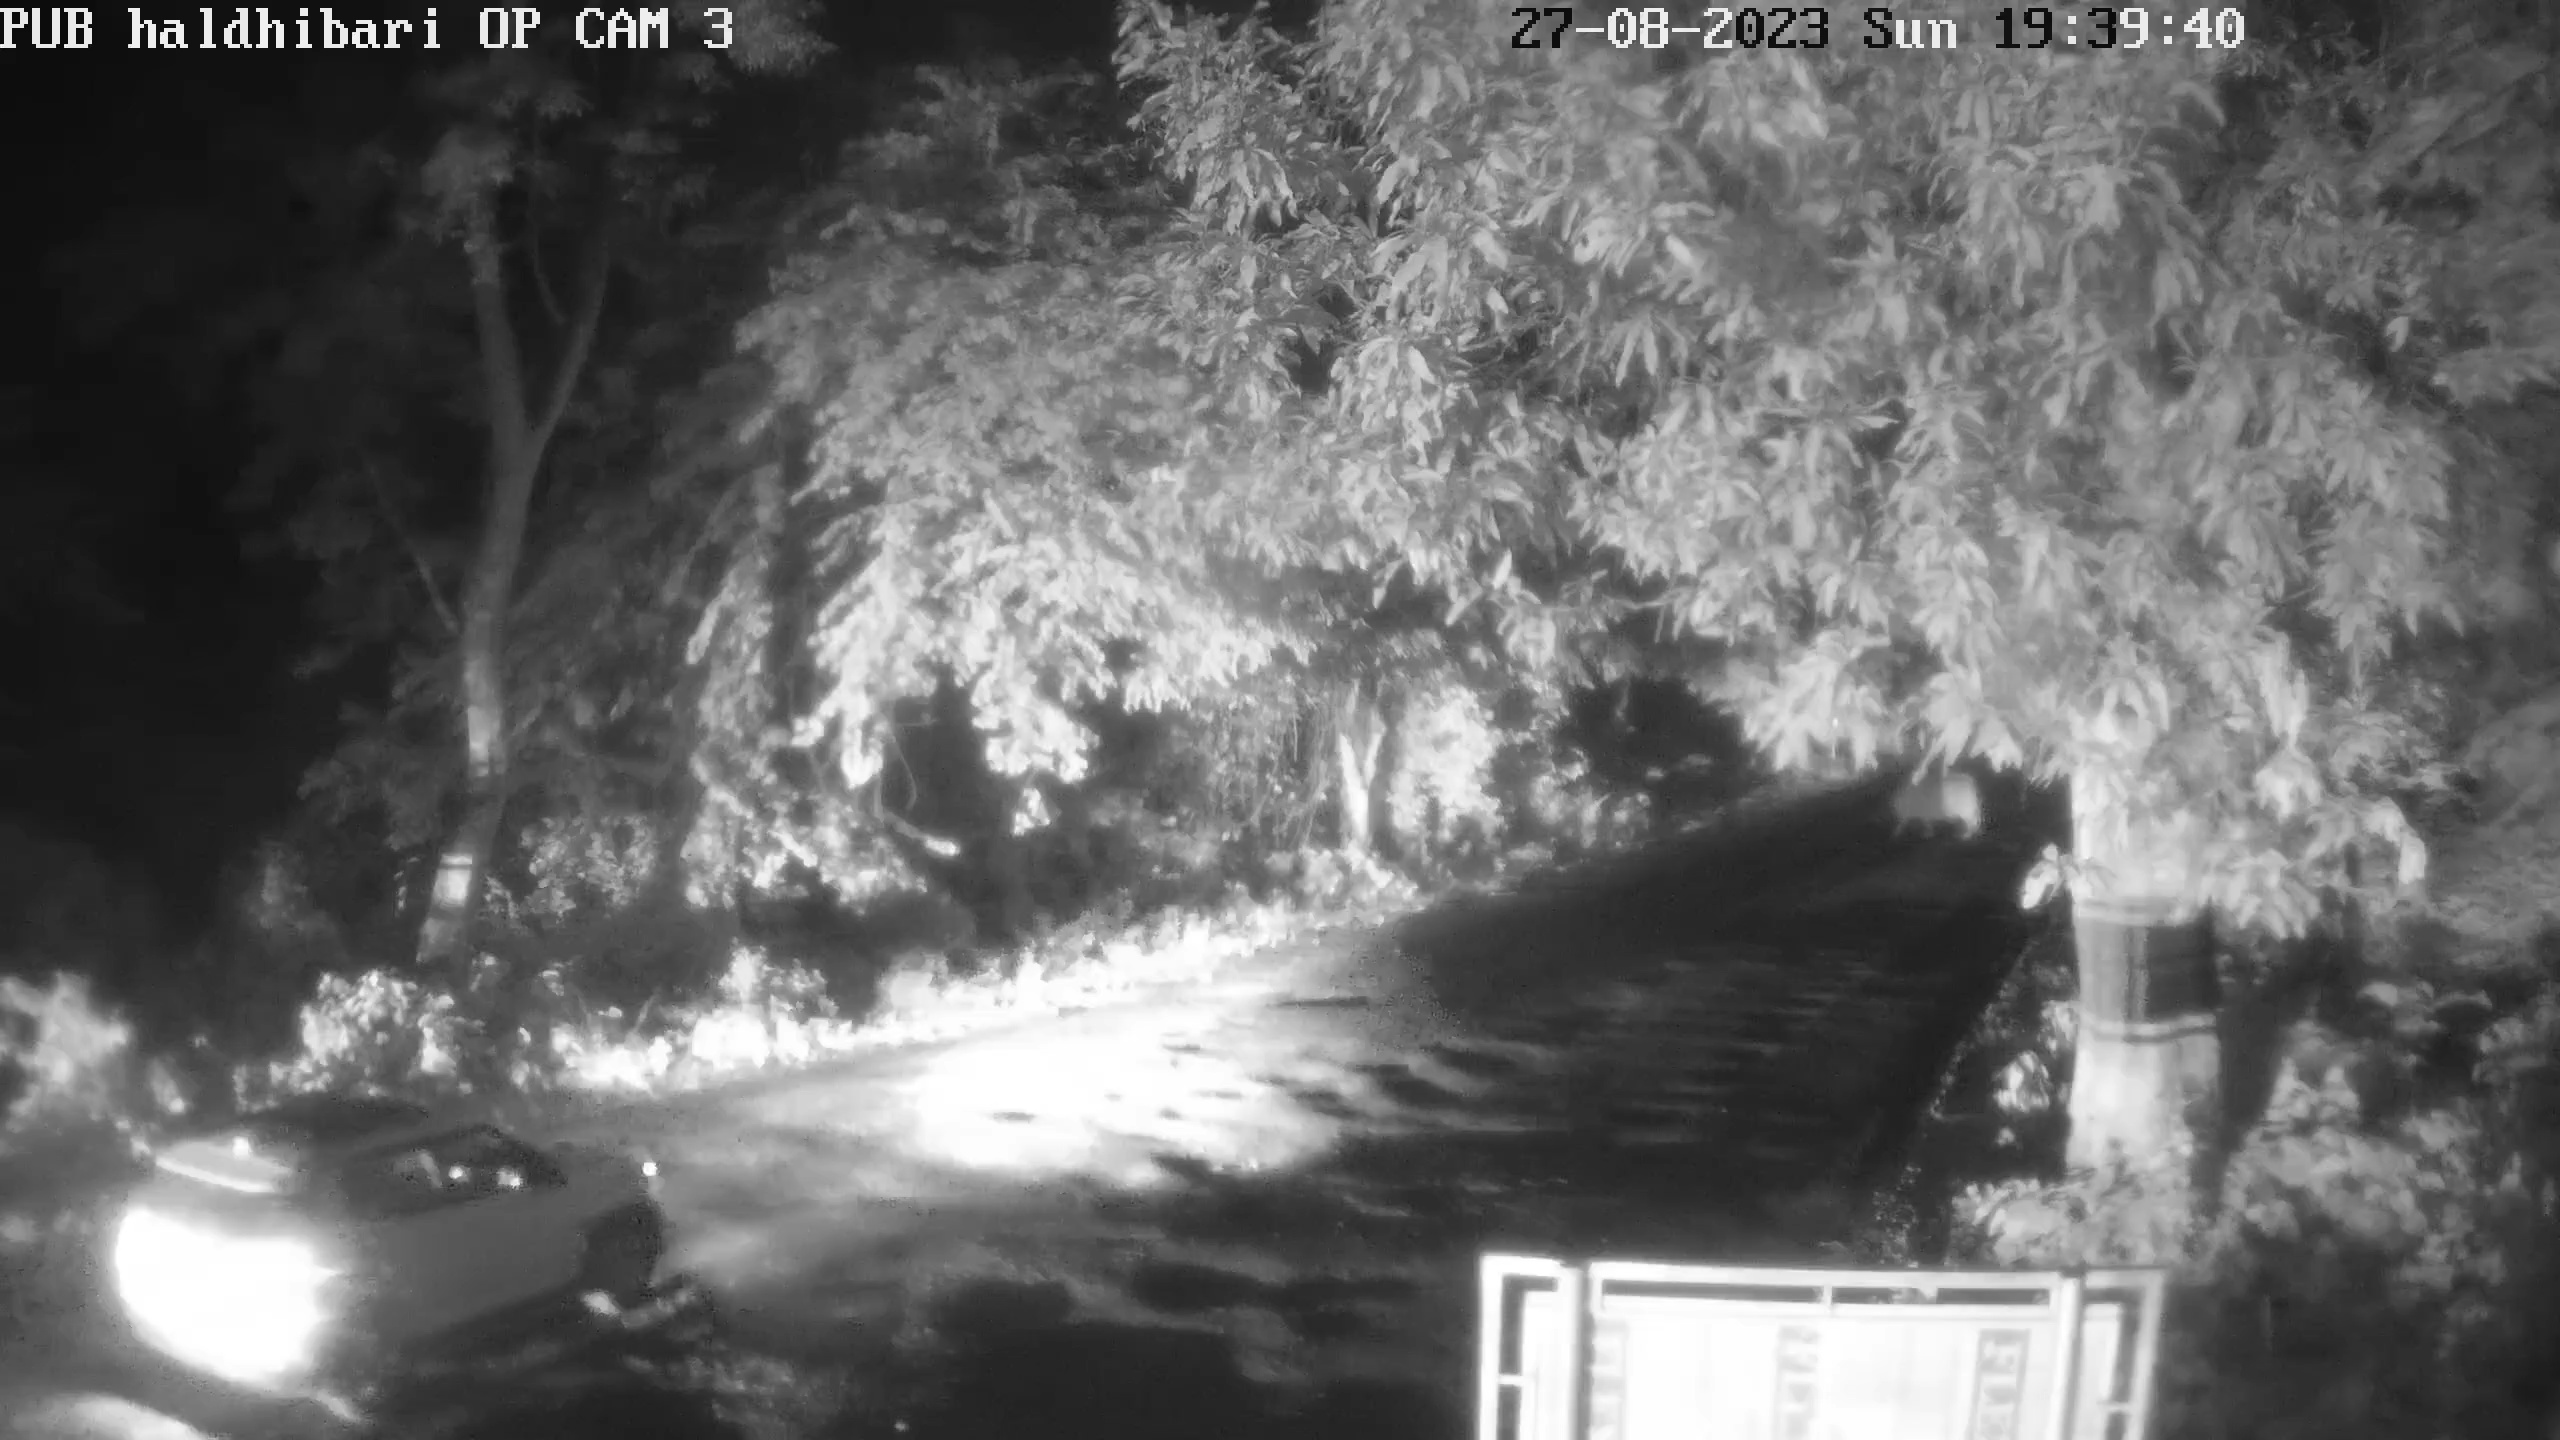rhinos: (1890, 763, 1980, 846)
